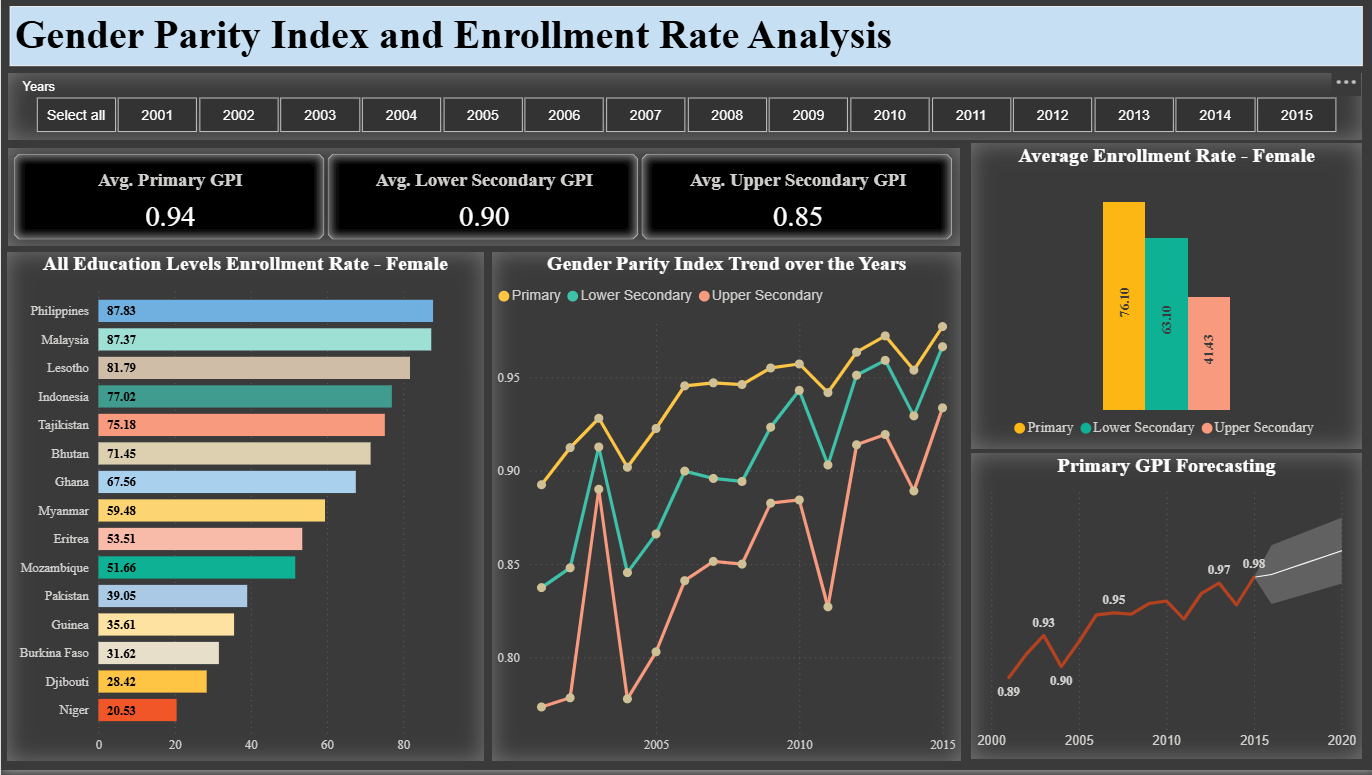

The dashboard page shown, as its layout file describes it:
{"tool":"powerbi","page":{"name":"Page 1","canvas":[1280,720],"ordinal":0},"visuals":[{"type":"lineChart","title":"Primary GPI Forecasting","fields":{"Y":["Avg(Sheet1.PER_GPI)"],"Category":["Sheet1.Years"]},"box":[902.3,425.6,364,283.7],"z":0},{"type":"slicer","fields":{"Values":["Sheet1.Years"]},"box":[7,72.1,1259.3,61.6],"z":1000},{"type":"cardVisual","fields":{"Data":["Avg(Sheet1.TNER_Pri_GPI)","Avg(Sheet1.TNER_LS_GPI)","Avg(Sheet1.TNER_US_GPI)"]},"box":[6.8,142.1,885.1,90.7],"z":2000},{"type":"clusteredColumnChart","title":"Average Enrollment Rate - Female","fields":{"Y":["Avg(Sheet1.TNER_Pri_Female_Percentage)","Avg(Sheet1.TNER_LS_Female_Percentage)","Avg(Sheet1.TNER_US_Female_Percentage)"]},"box":[902.3,137.2,364,283.7],"z":3000},{"type":"lineChart","title":"Gender Parity Index Trend over the Years","fields":{"Category":["Sheet1.Years"],"Y":["Avg(Sheet1.TNER_Pri_GPI)","Avg(Sheet1.TNER_LS_GPI)","Avg(Sheet1.TNER_US_GPI)"]},"box":[457,238.4,436,473.3],"z":4000},{"type":"clusteredBarChart","title":"All Education Levels Enrollment Rate - Female","fields":{"Category":["Sheet1.Countries"],"Y":["Avg(Sheet1.TER_Female)"]},"box":[5.8,238.4,443,473.3],"z":5000},{"type":"textbox","box":[8.1,9.3,1258.1,55.8],"z":6000}]}

Visuals, with their boxes in screenshot pixels (x1, y1, x2, y2), scaled from the page's 1280x720 canvas onto the 1372x775 screenshot:
"Primary GPI Forecasting" lineChart: pyautogui.locateOnScreen(967, 458, 1357, 763)
slicer - Sheet1.Years: pyautogui.locateOnScreen(8, 78, 1357, 144)
cardVisual - Avg(Sheet1.TNER_Pri_GPI) x Avg(Sheet1.TNER_LS_GPI): pyautogui.locateOnScreen(7, 153, 956, 251)
"Average Enrollment Rate - Female" clusteredColumnChart: pyautogui.locateOnScreen(967, 148, 1357, 453)
"Gender Parity Index Trend over the Years" lineChart: pyautogui.locateOnScreen(490, 257, 957, 766)
"All Education Levels Enrollment Rate - Female" clusteredBarChart: pyautogui.locateOnScreen(6, 257, 481, 766)
textbox: pyautogui.locateOnScreen(9, 10, 1357, 70)
